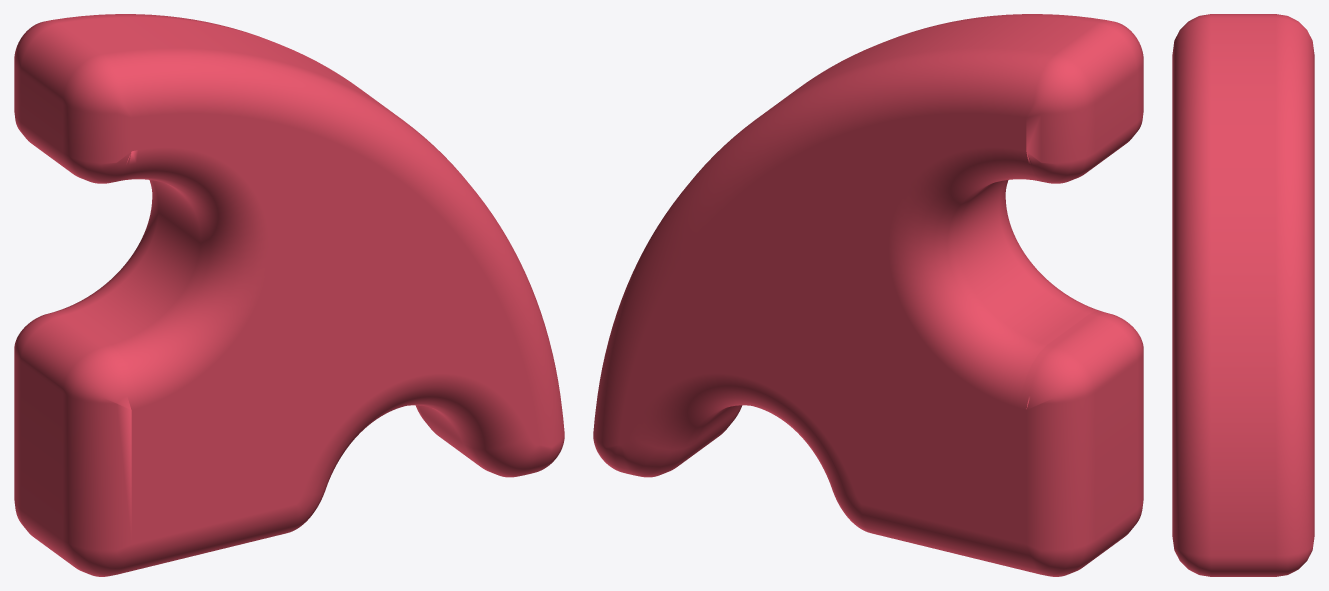
Rendered from red-puzzle.glb.
3 views of the same model, side by side, from view 1: azimuth 30°, elevation 25°; view 2: azimuth 150°, elevation 25°; view 3: azimuth 270°, elevation 25° (orthographic). The views are drawn at different scales.
Parts seen in each view (by area): view 1: Shape 0.008; view 2: Shape 0.008; view 3: Shape 0.008.
Boxes of the visible parts, x1,y1,x2,y2 form: Shape 0.008: (14, 14, 564, 576); Shape 0.008: (593, 14, 1143, 576); Shape 0.008: (1172, 14, 1314, 576).
Bounding box in the file's own units: 1.72 × 1.72 × 0.554.
